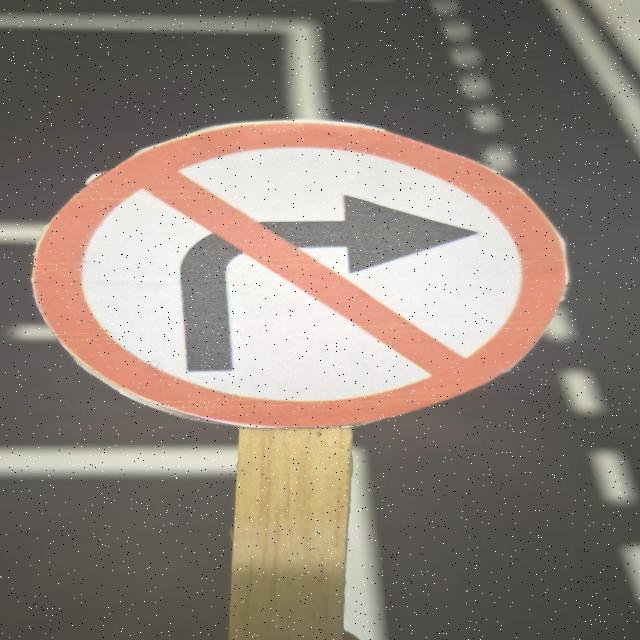Dilarang Belok Kanan: (34, 121, 565, 428)
